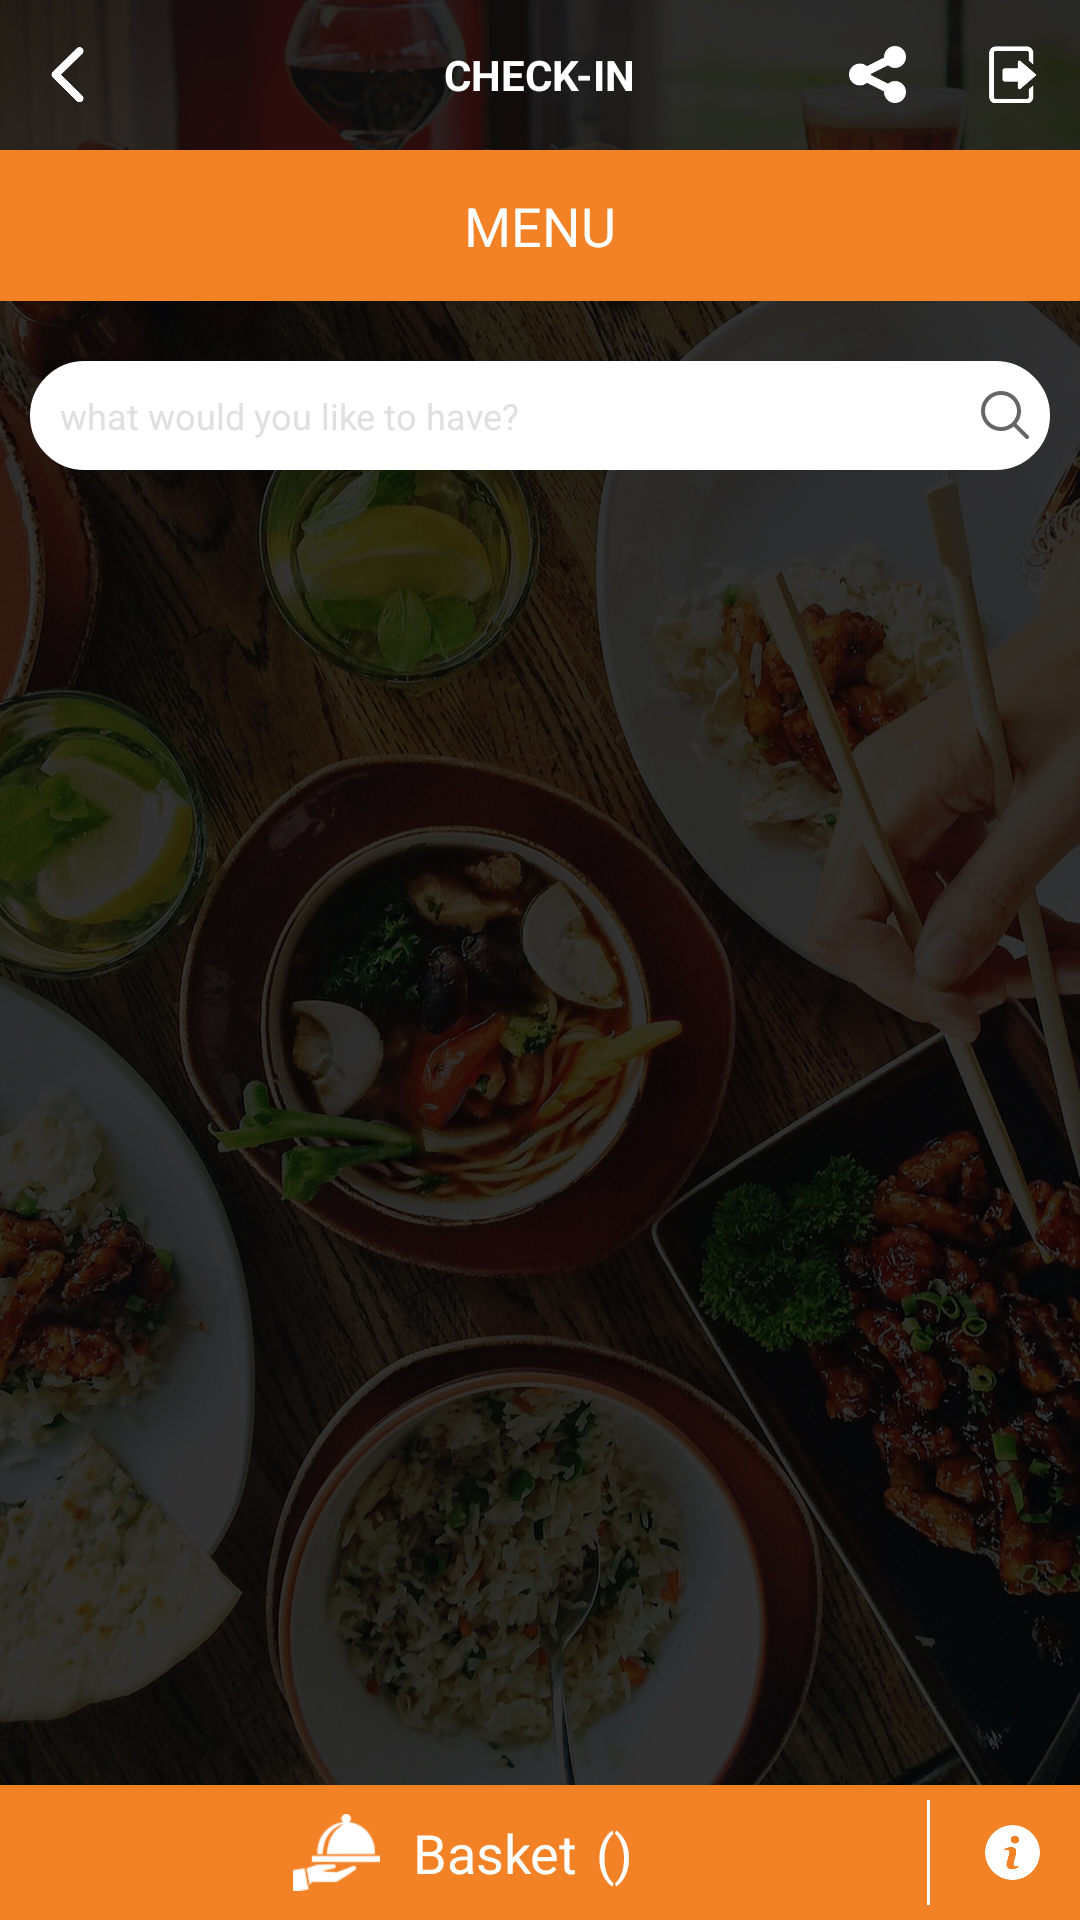

Icon bounding boxes for this 1080px×1920px phone screenshot, format (x1, y1, x2, y2):
back: (51, 47, 84, 102)
info: (985, 1825, 1040, 1880)
search: (981, 391, 1029, 439)
